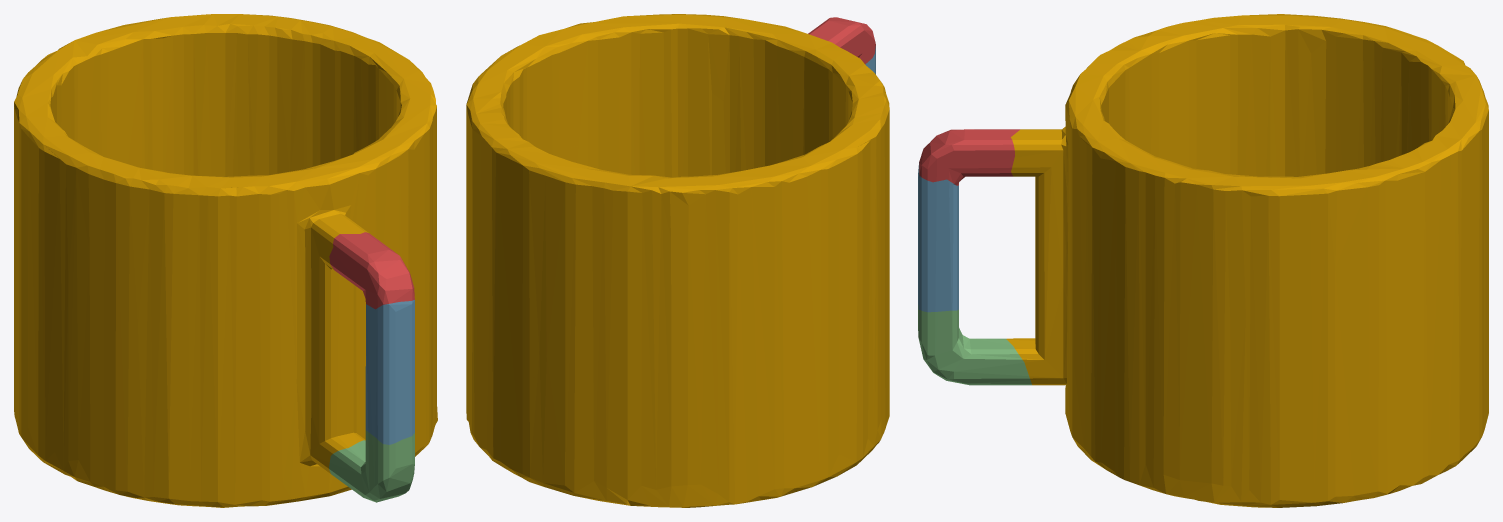
Rendered from fractured_42_4pcs.glb.
The picture shows the model from 3 angles, left to right: view 1: azimuth 30°, elevation 25°; view 2: azimuth 150°, elevation 25°; view 3: azimuth 270°, elevation 25°; orthographic projection.
Parts seen in each view (by area): view 1: piece_0.obj, piece_2.obj, piece_3.obj, piece_1.obj; view 2: piece_0.obj, piece_1.obj; view 3: piece_0.obj, piece_3.obj, piece_2.obj, piece_1.obj.
Boxes of the visible parts, x1,y1,x2,y2 form: piece_0.obj: (14,14,437,507); piece_2.obj: (365,300,414,444); piece_3.obj: (329,430,414,502); piece_1.obj: (329,232,414,309); piece_0.obj: (466,14,889,507); piece_1.obj: (808,17,875,64); piece_0.obj: (1006,14,1488,507); piece_3.obj: (918,305,1031,385); piece_2.obj: (918,162,958,312); piece_1.obj: (919,129,1019,185).
Bounding box in the file's own units: 0.7417 × 0.6213 × 1.
